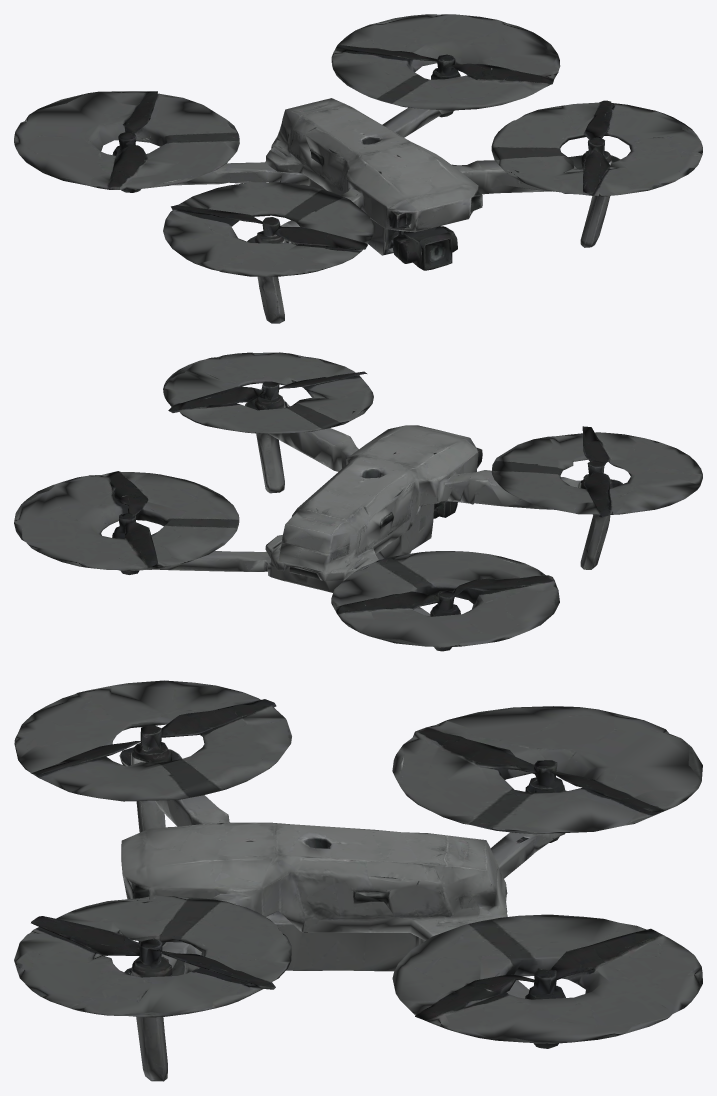
File: drone-dark.glb
3 renders of one model, top to bottom at view 1: azimuth 30°, elevation 25°; view 2: azimuth 150°, elevation 25°; view 3: azimuth 270°, elevation 25°, orthographic. The views are drawn at different scales.
Bounding box in the file's own units: 1.9 × 0.3664 × 1.64.
Materials: 1 (1 with a texture image).
